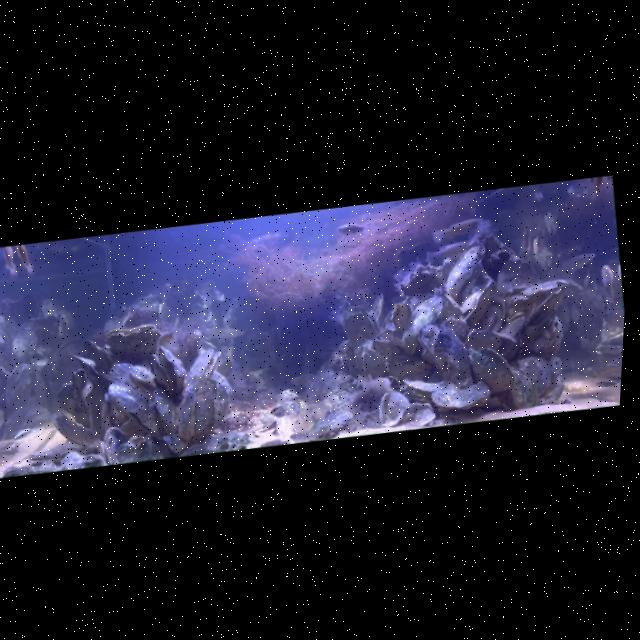Oyster-Closed: (103, 356, 166, 444), (413, 316, 479, 392), (395, 293, 449, 357), (439, 241, 492, 302), (428, 378, 493, 416), (510, 353, 557, 400), (457, 277, 500, 328), (192, 376, 225, 439), (169, 385, 203, 441), (150, 384, 183, 440), (504, 363, 543, 410), (25, 438, 88, 467), (402, 371, 459, 402), (430, 282, 466, 323), (384, 356, 434, 384), (71, 351, 105, 384)
Oyster-Indeterminate: (0, 359, 41, 420), (51, 380, 94, 434), (503, 277, 571, 308), (526, 284, 572, 329), (397, 262, 447, 301), (208, 370, 239, 430), (81, 335, 119, 377), (473, 293, 511, 334), (50, 408, 87, 446), (439, 312, 475, 348), (399, 399, 439, 430), (100, 425, 129, 466), (465, 325, 503, 356), (120, 303, 161, 331), (495, 310, 530, 342), (387, 299, 415, 334), (370, 337, 404, 360), (0, 357, 14, 405)
Oyster-Open: (464, 339, 519, 397), (104, 321, 165, 361), (150, 342, 190, 395), (338, 300, 383, 347), (374, 389, 414, 428), (183, 348, 225, 382), (0, 320, 12, 354), (268, 402, 289, 418)
